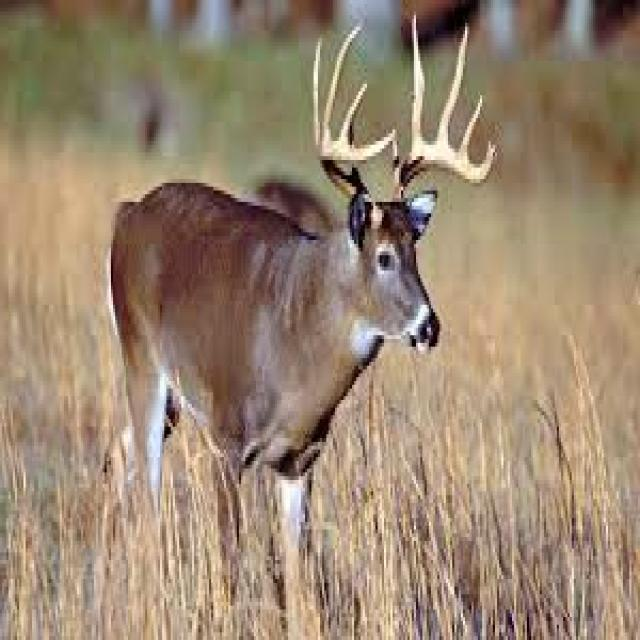deer: (109, 15, 497, 545)
